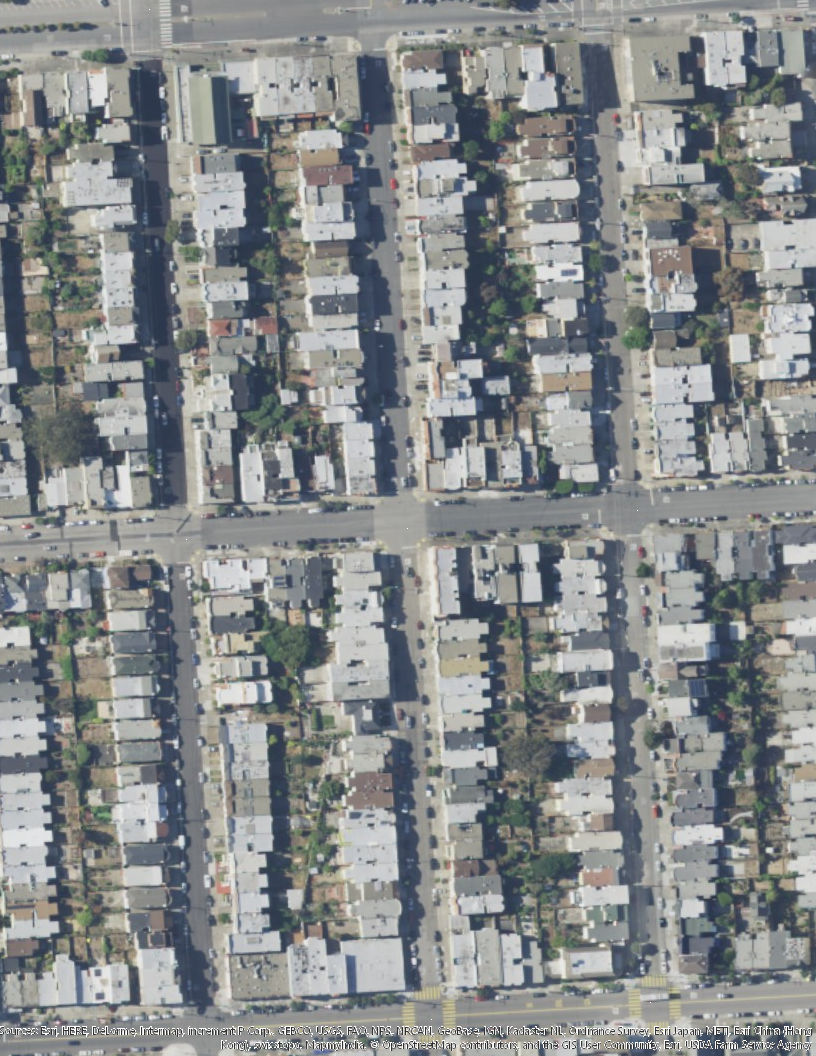zebracross: (155, 1, 176, 50), (440, 998, 457, 1031), (627, 987, 643, 1019), (413, 983, 442, 999), (668, 986, 682, 1017), (401, 1001, 415, 1026), (641, 973, 668, 985), (797, 1, 812, 10)
